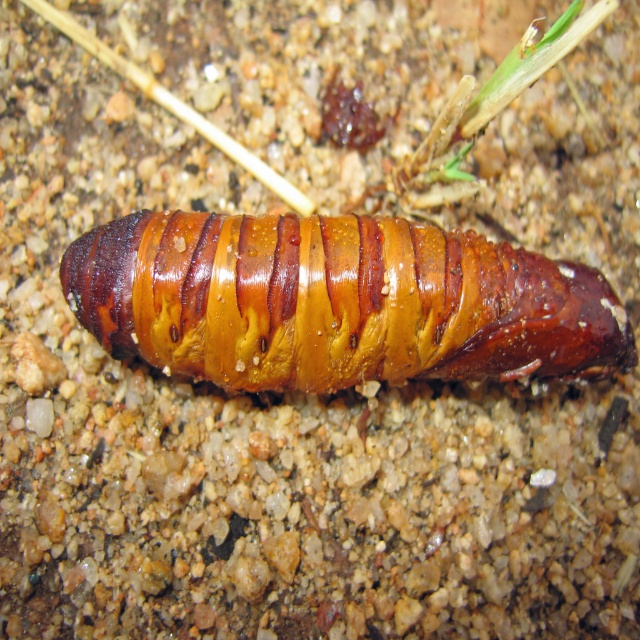Caterpillar: (56, 213, 640, 397)
